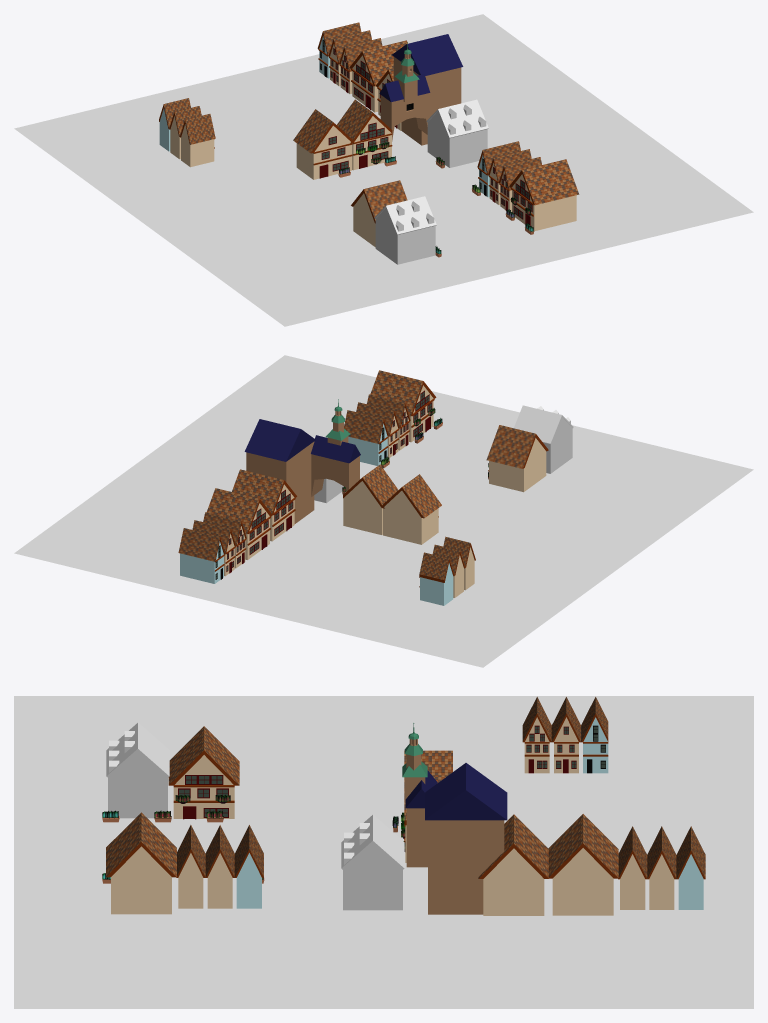
The model's file is town_comp.fbx.
The picture shows the model from 3 angles, top to bottom: view 1: azimuth 30°, elevation 25°; view 2: azimuth 150°, elevation 25°; view 3: azimuth 270°, elevation 25°; orthographic projection. The views are drawn at different scales.
Visible parts, largest first — view 1: 平面.003, Cube.004, Cube.010, Cube.005, Cube.007, Cube.012, Cube.017, Cube, 立方体.008, Cube.008, 立方体.009, Cube.015 (+8 smaller); view 2: 平面.003, Cube.008, Cube.010, Cube.007, Cube.017, 立方体.008, Cube.018, Cube.004, Cube.016, 立方体.009, Cube.001, Cube.015 (+7 smaller); view 3: 平面.003, 立方体.008, Cube.004, Cube.017, Cube.018, Cube.008, Cube.015, Cube.003, 立方体.009, Cube.005, Cube, Cube.012 (+8 smaller).
Boxes of the visible parts, x1,y1,x2,y2 form: 平面.003: (14,14,753,326); Cube.004: (509,159,579,231); Cube.010: (293,109,352,179); Cube.005: (169,106,215,167); Cube.007: (337,99,392,170); Cube.012: (375,208,435,264); Cube.017: (349,40,407,112); Cube: (427,111,487,167); 立方体.008: (393,57,461,145); Cube.008: (351,180,407,247); 立方体.009: (392,34,463,75); Cube.015: (328,30,382,93); 平面.003: (14,355,753,667); Cube.008: (486,425,548,492); Cube.010: (382,474,441,544); Cube.007: (343,464,398,534); Cube.017: (206,488,272,559); 立方体.008: (246,441,314,523); Cube.018: (232,469,296,541); Cube.004: (370,370,436,442); Cube.016: (178,528,225,583); 立方体.009: (244,419,315,461); Cube.001: (344,410,388,465); Cube.015: (192,512,246,576); 平面.003: (14,696,753,1008); 立方体.008: (428,820,504,914); Cube.004: (106,812,176,914); Cube.017: (548,814,618,915); Cube.018: (478,814,549,915); Cube.008: (168,726,239,819); Cube.015: (618,826,676,909); Cube.003: (176,825,234,908); 立方体.009: (425,763,507,820); Cube.005: (522,697,580,773); Cube: (343,843,402,910); Cube.012: (108,751,167,818).
Size of the model in its own units: 13289 by 3121 by 13289.
